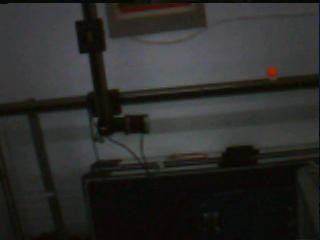oball: (267, 67, 277, 78)
